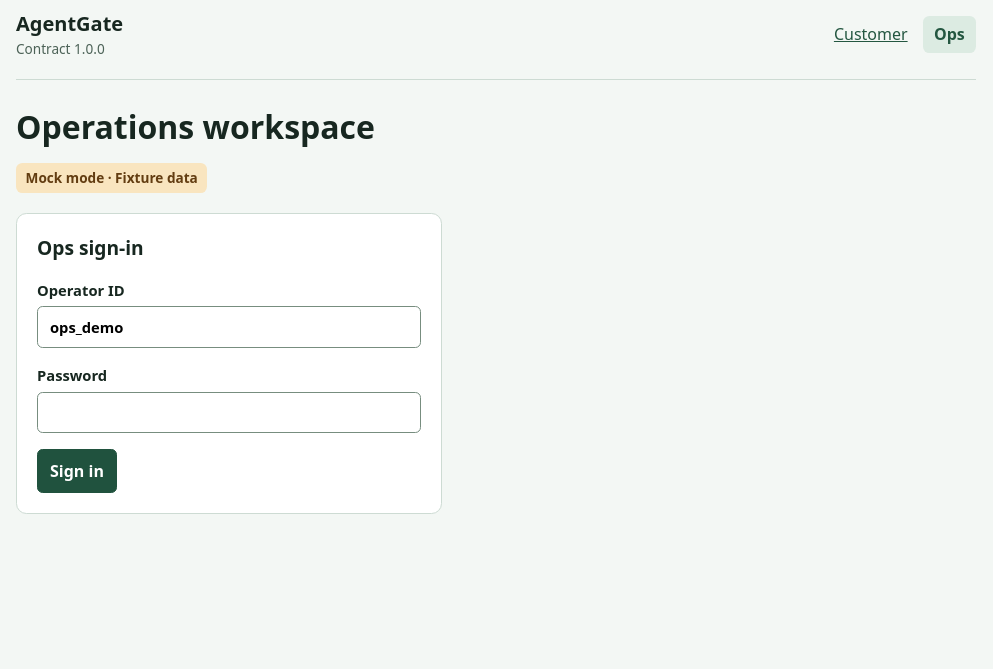
it: fixture-backed workspaces › shows the contract error for invalid Ops credentials
Type "incorrect" into the password field labelled "Password" at (229, 412), box top-left (37, 392), bottom-right (421, 433)
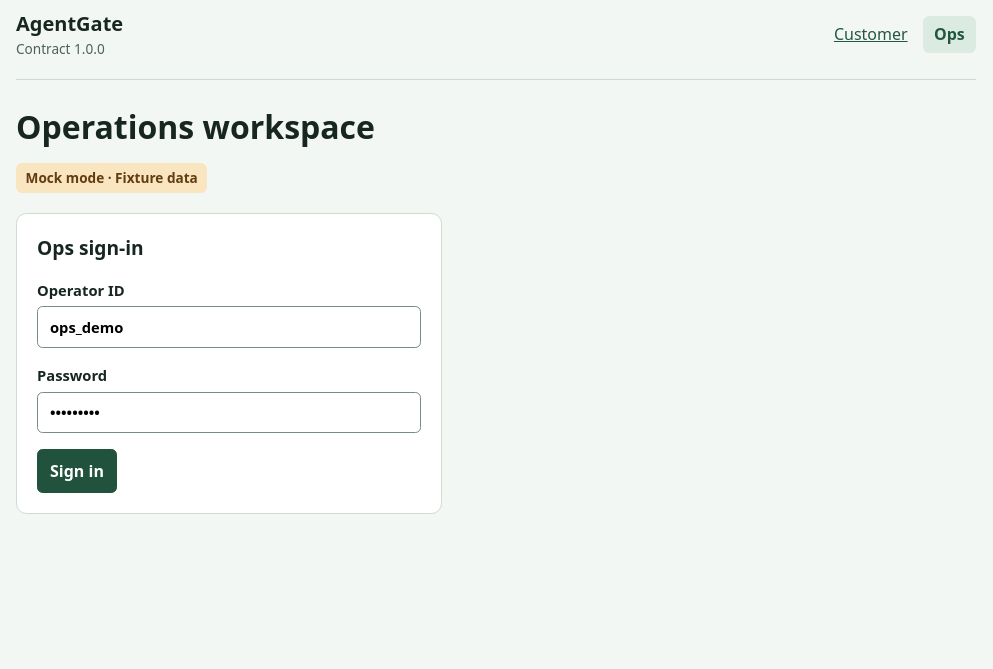
Click the button "Sign in" at (77, 471), box top-left (37, 449), bottom-right (117, 493)
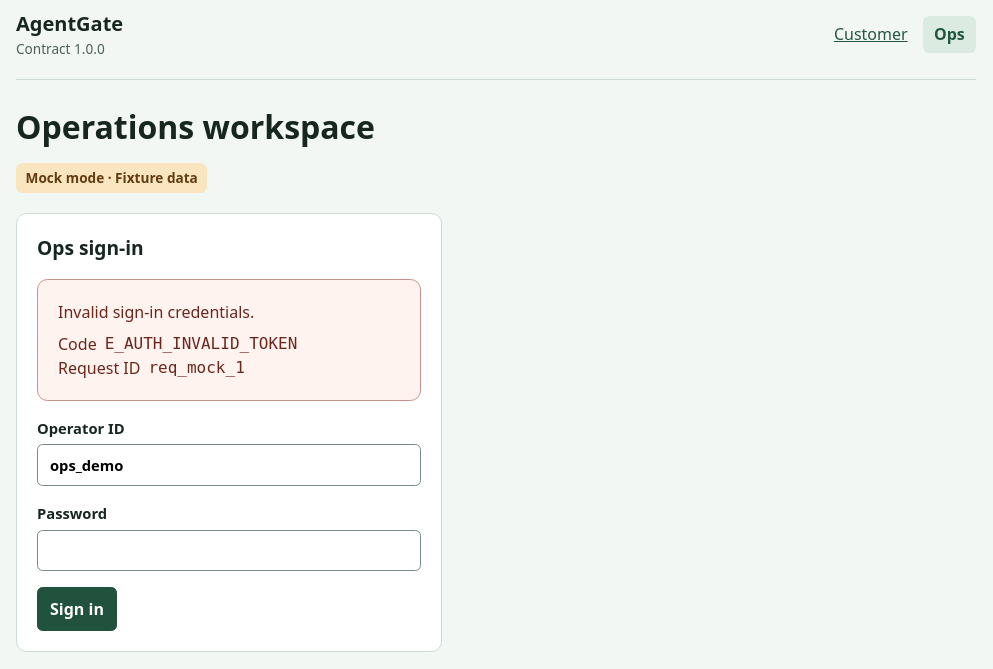
Check: the message shows "Invalid sign-in credentials.", box top-left (58, 301), bottom-right (254, 323)
Check: the message shows "E_AUTH_INVALID_TOKEN", box top-left (105, 334), bottom-right (297, 353)
Check: the message shows "req_mock_1", box top-left (148, 358), bottom-right (245, 377)
